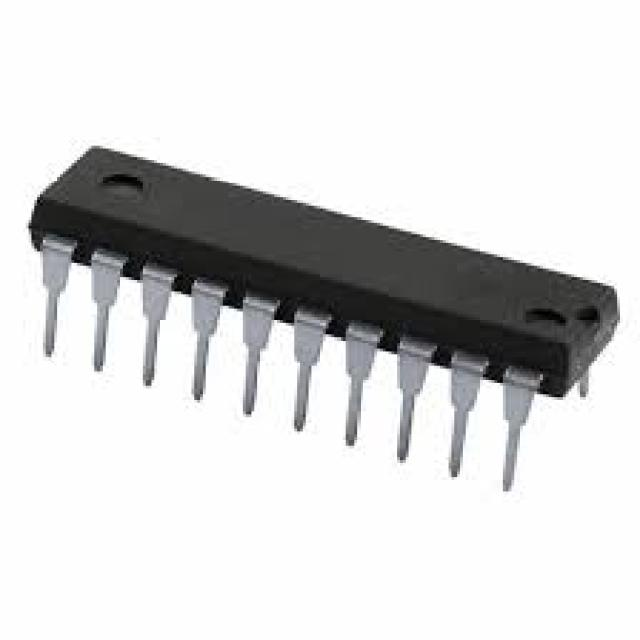IC: (31, 146, 612, 494)
